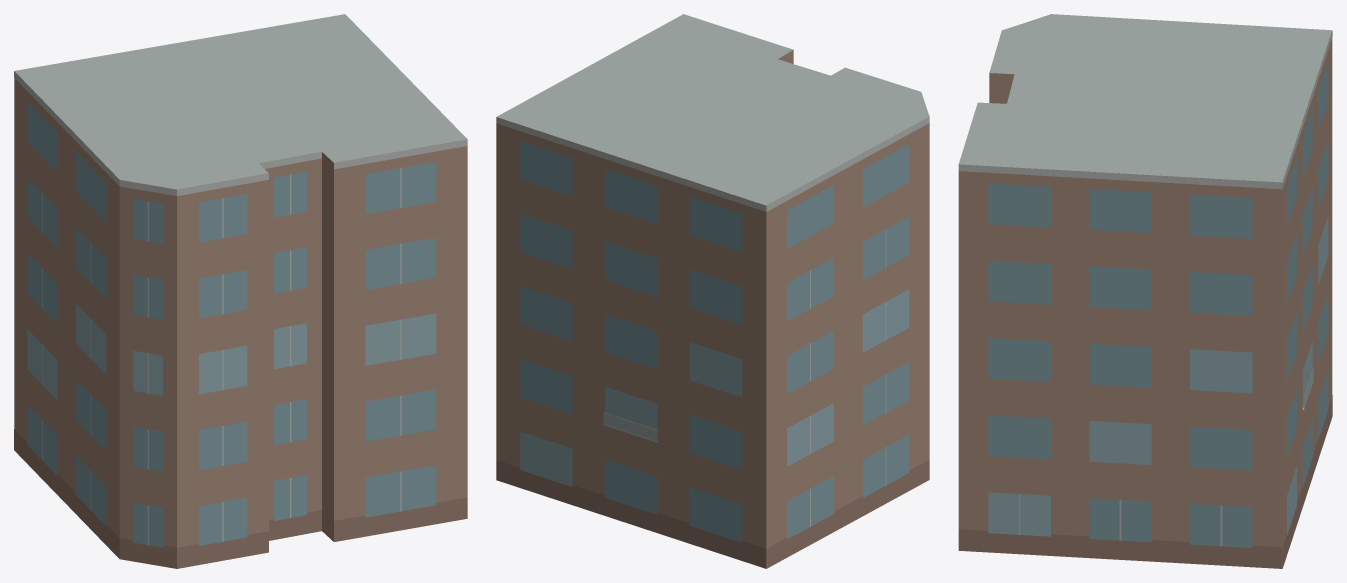
Rendered from survey-upis-32732741.glb.
3 renders of one model, left to right at view 1: azimuth 30°, elevation 25°; view 2: azimuth 150°, elevation 25°; view 3: azimuth 270°, elevation 25°, orthographic. The views are drawn at different scales.
Parts seen in each view (by area): view 1: survey-upis-32732741.tmp; view 2: survey-upis-32732741.tmp; view 3: survey-upis-32732741.tmp.
Part boxes in pixels (bbox=[...]): survey-upis-32732741.tmp: bbox=[14, 14, 467, 568]; survey-upis-32732741.tmp: bbox=[496, 14, 929, 568]; survey-upis-32732741.tmp: bbox=[958, 14, 1332, 568].
Bounding box in the file's own units: 13.11 × 14 × 12.29.
